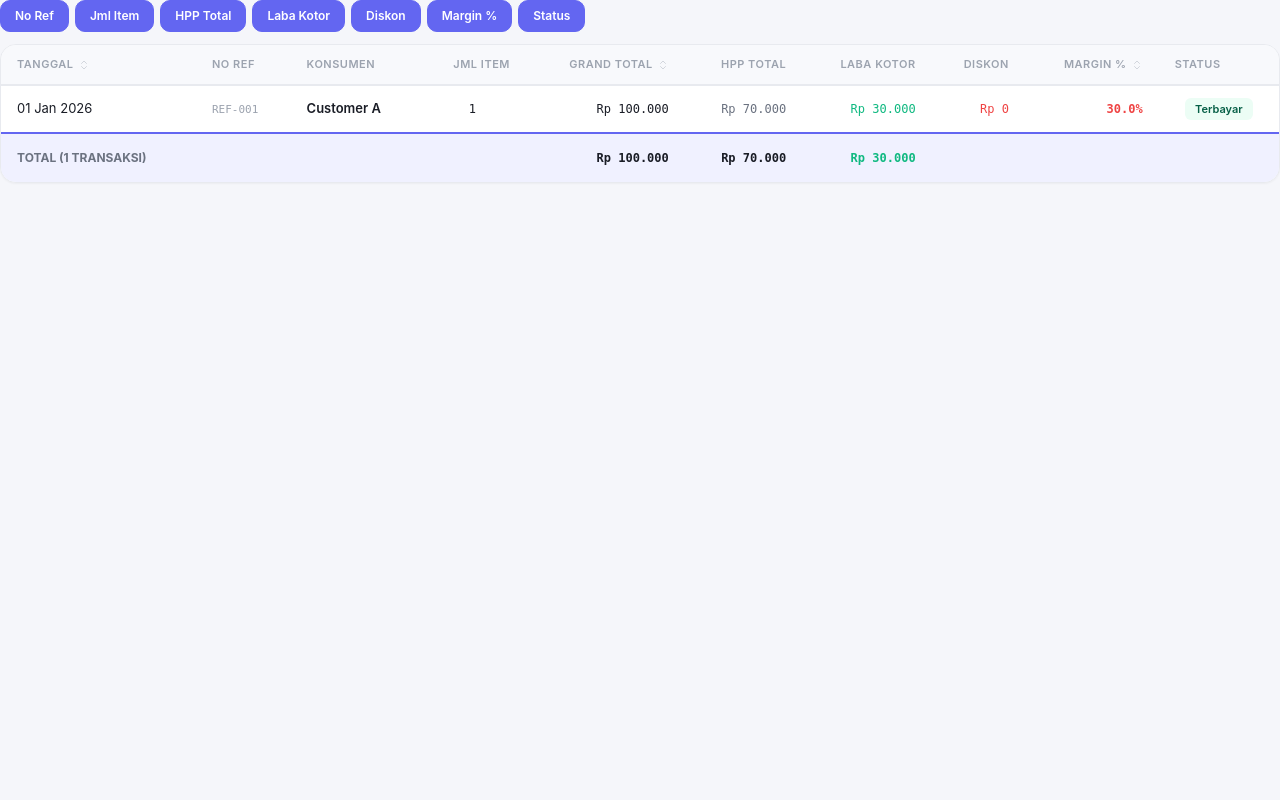
Test: slide-over › clicking a sales row renders an element containing "Detail Transaksi"
Click the text "Customer A" at {"x": 640, "y": 109}, box [1, 84, 1279, 133]
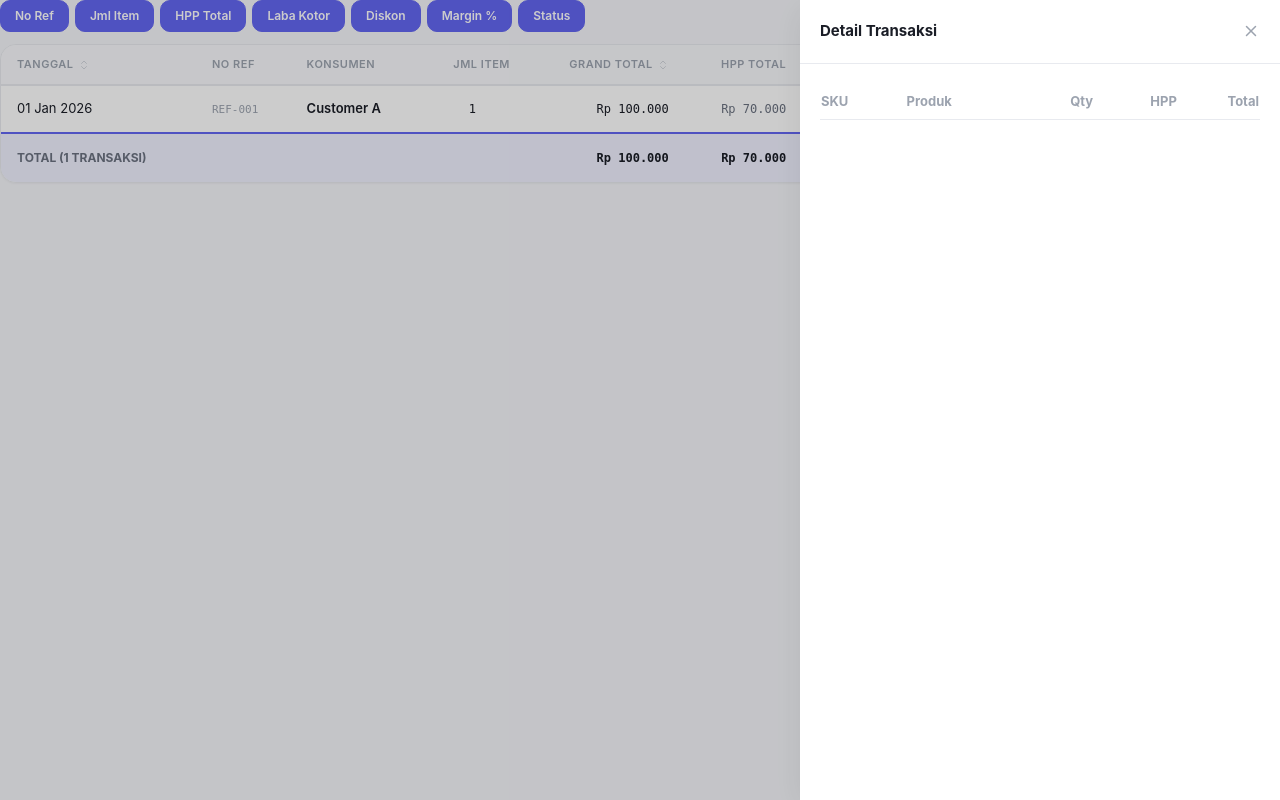
Check: the heading "Detail Transaksi" is shown, box [820, 20, 937, 42]
